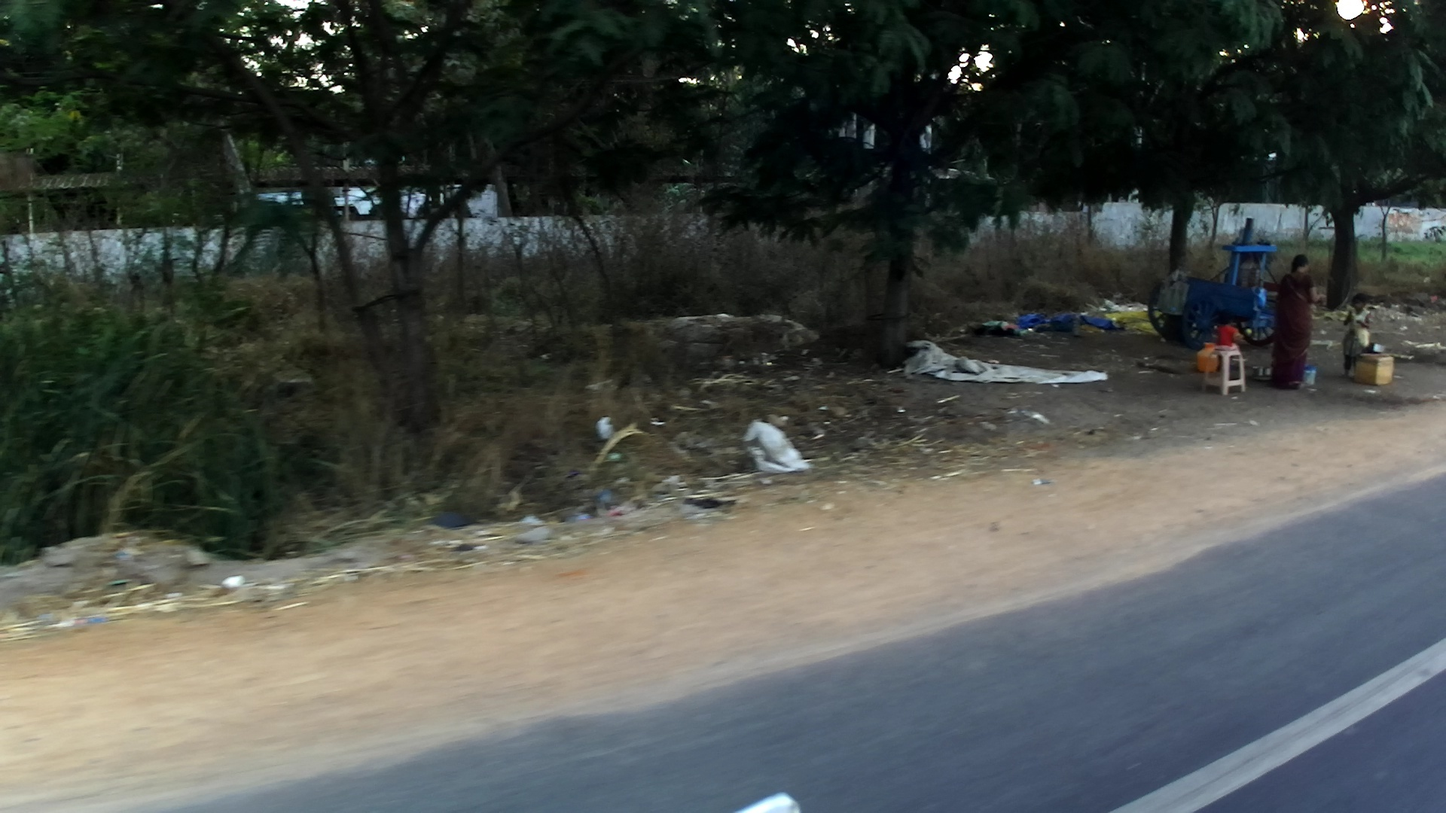person: (1265, 248, 1330, 398), (1334, 286, 1375, 378)
vehicle fallback: (1141, 216, 1284, 358)
